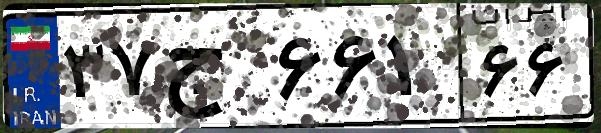1: (385, 28, 445, 110)
3: (57, 26, 110, 100)
6: (270, 28, 330, 110), (330, 28, 385, 110), (475, 38, 525, 113), (525, 38, 570, 115)
7: (110, 28, 158, 98)
ج: (158, 20, 270, 120)
